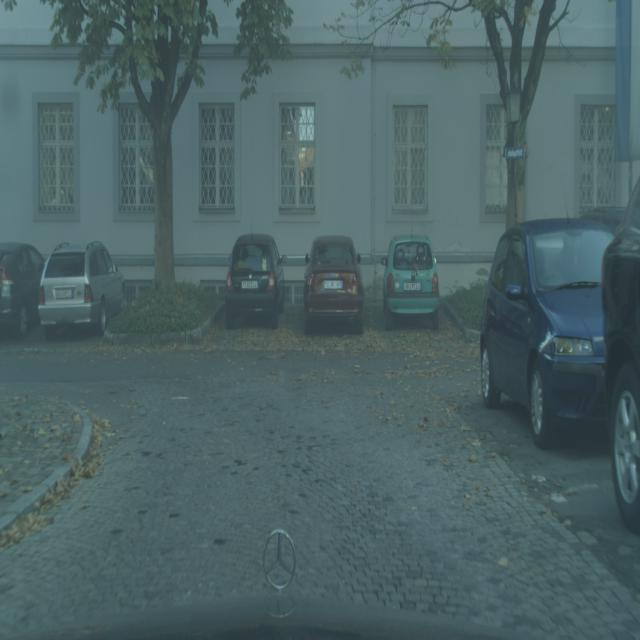person: (479, 217, 616, 448), (602, 175, 640, 532), (38, 240, 125, 338), (303, 235, 364, 334), (225, 233, 286, 329), (382, 234, 440, 331), (0, 242, 45, 338)
